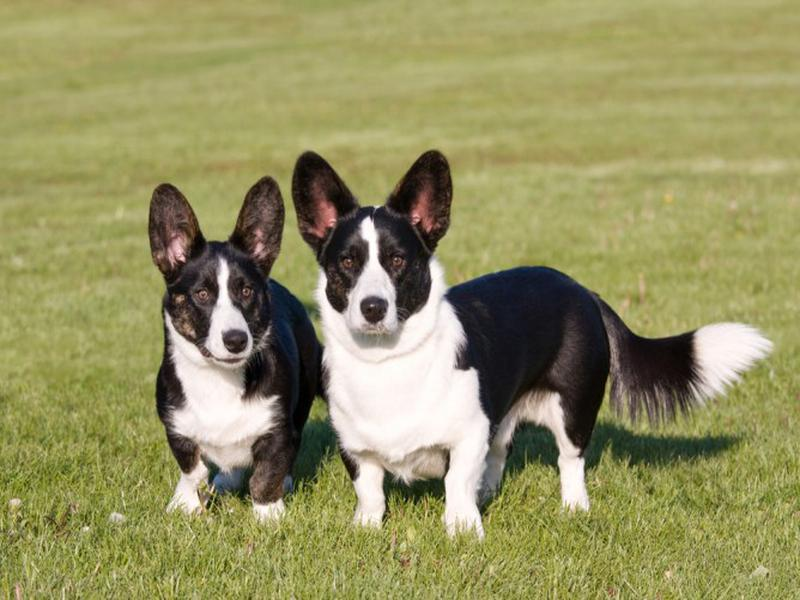corgi: (293, 149, 457, 341)
